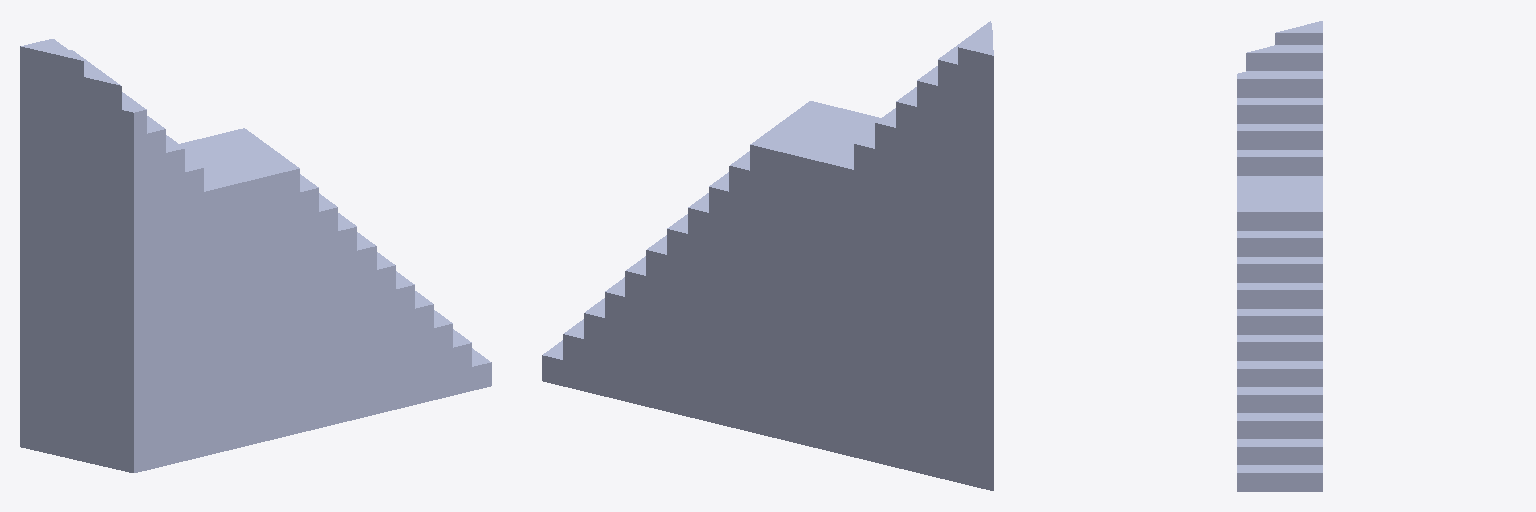
robot.urdf — main_stair_v2:
<?xml version="1.0" encoding="utf-8"?>
<!-- This URDF was automatically created by SolidWorks to URDF Exporter! Originally created by [author] ([email redacted]) 
     Commit Version: 1.6.0-1-g15f4949  Build Version: 1.6.7594.29634
     For more information, please see http://wiki.ros.org/sw_urdf_exporter -->
<robot
  name="main_stair_v2">
  <link
    name="base_link">
    <inertial>
      <origin
        xyz="-3.2087770622912 0.653225917865937 1.66812503337597"
        rpy="0 0 0" />
      <mass
        value="17185.5891798419" />
      <inertia
        ixx="24295.5130881483"
        ixy="893.12558795862"
        ixz="10948.8275578467"
        iyy="49561.8540305201"
        iyz="-382.02379455342"
        izz="29718.070641499" />
    </inertial>
    <visual>
      <origin
        xyz="0 0 0"
        rpy="0 0 0" />
      <geometry>
        <mesh
          filename="package://main_stair_v2/meshes/base_link.STL" />
      </geometry>
      <material
        name="">
        <color
          rgba="0.792156862745098 0.819607843137255 0.933333333333333 1" />
      </material>
    </visual>
    <collision>
      <origin
        xyz="0 0 0"
        rpy="0 0 0" />
      <geometry>
        <mesh
          filename="package://main_stair_v2/meshes/base_link.STL" />
      </geometry>
    </collision>
  </link>

<gazebo reference="base_link">
    <material>stair</material>
</gazebo>

</robot>

--- Render facts (derived) ---
The picture shows the robot from 3 angles, left to right: view 1: azimuth 30°, elevation 25°; view 2: azimuth 150°, elevation 25°; view 3: azimuth 270°, elevation 25°; orthographic projection.
Robot: main_stair_v2 — 1 links, 0 joints (none); root link base_link; default pose: every joint at zero.
Links seen in each view (by area): view 1: base_link; view 2: base_link; view 3: base_link.
Boxes of the visible links, bbox=[...] form: base_link: bbox=[20, 39, 491, 472]; base_link: bbox=[542, 21, 993, 490]; base_link: bbox=[1237, 21, 1322, 491].
Size in the robot's own frame: 5.43 by 1.25 by 5 metres.
Meshes: 1 distinct files referenced, 1 mesh visuals loaded (1 binary STL).